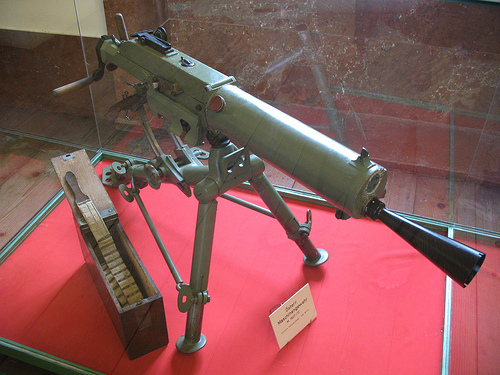rifle: (59, 26, 477, 341)
